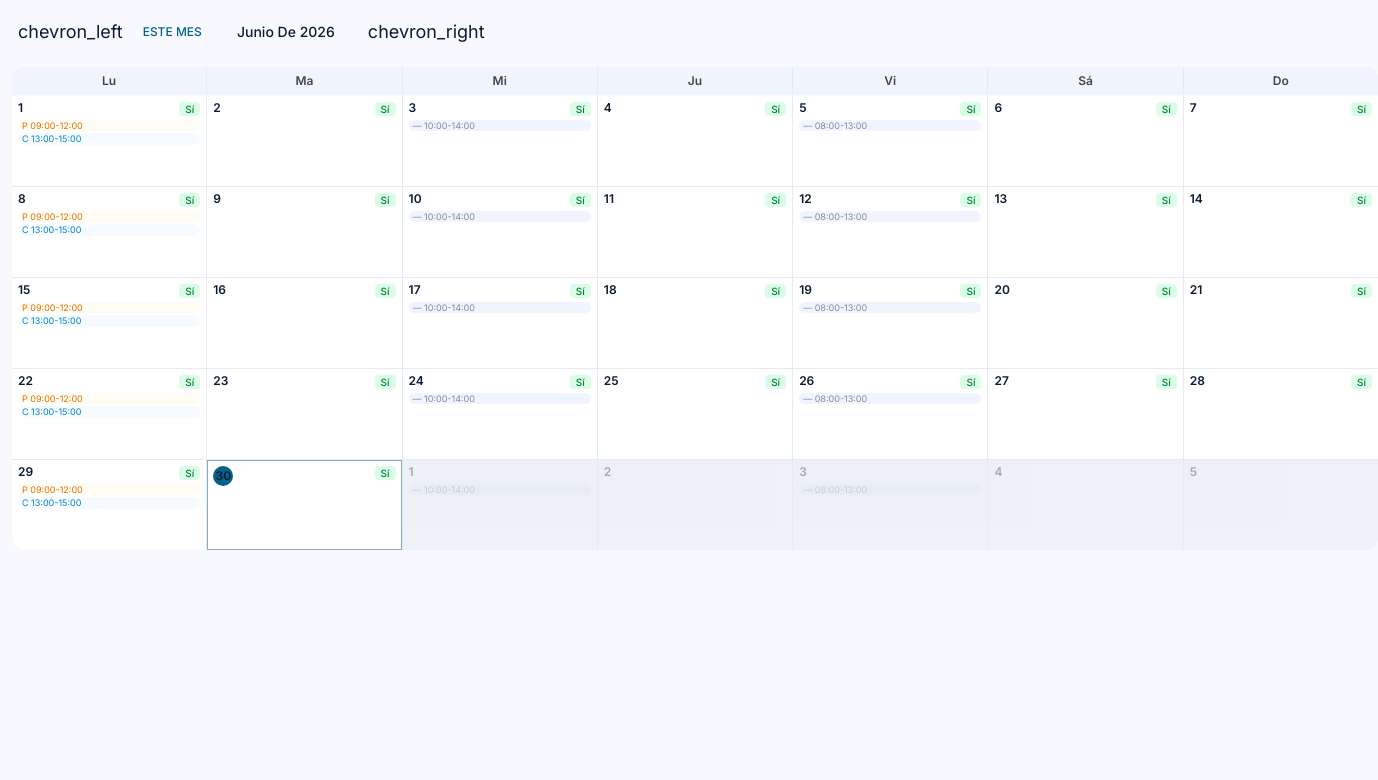
Test: CalendarGrid › navigates to previous month when clicking left arrow
Click the button with aria-label "Mes anterior": x=70, y=32 [12,12,129,51]
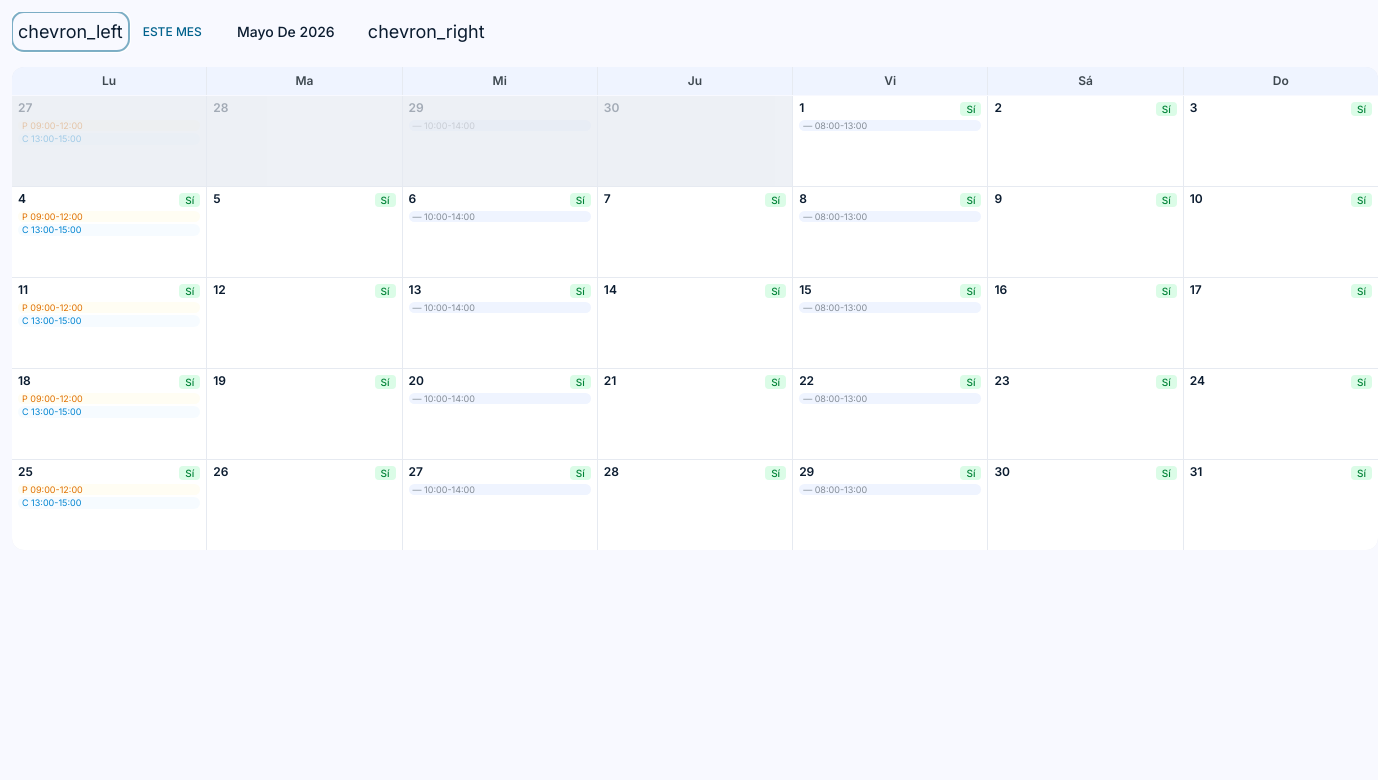
Check: the text "mayo de 2026" is shown, box [237,22,335,40]
